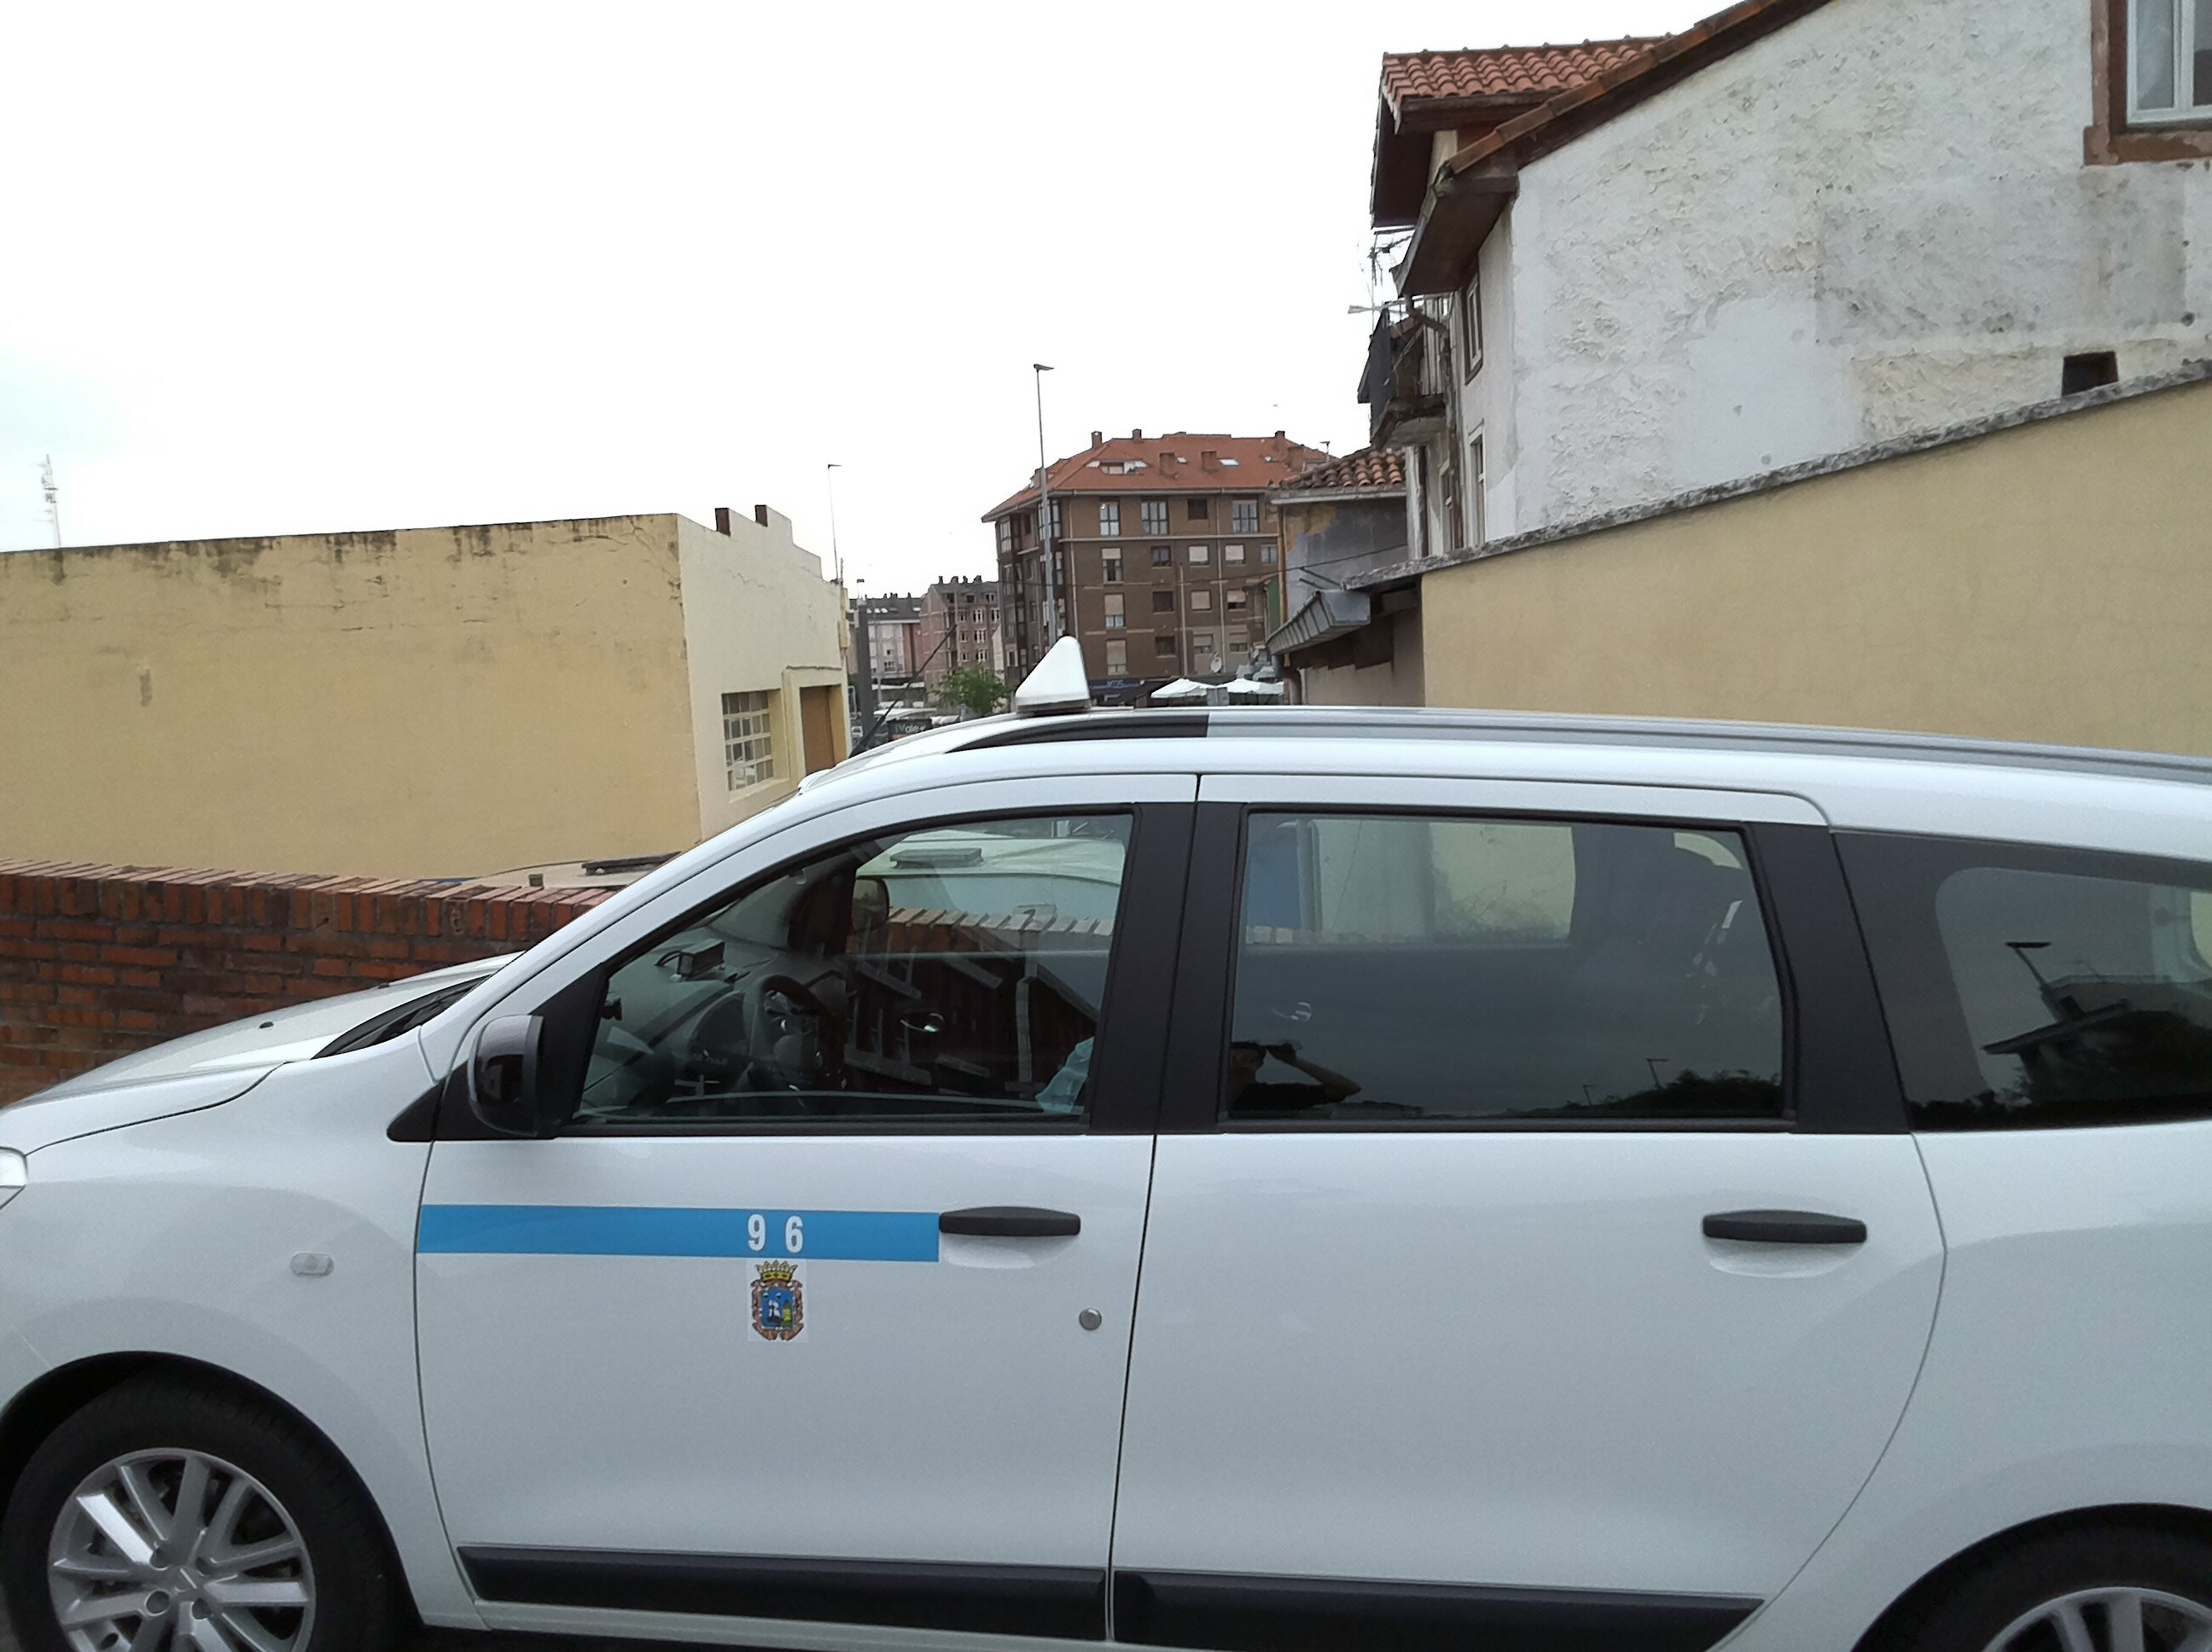Muro: (1443, 43, 2205, 737), (0, 531, 725, 854)
Vehiculo: (16, 680, 2212, 1647)
